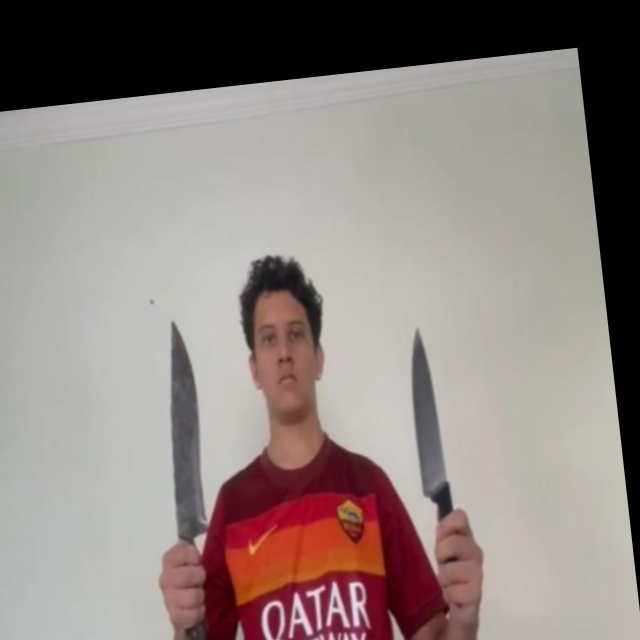Sharp-Object: (151, 317, 214, 541), (403, 326, 450, 490)
